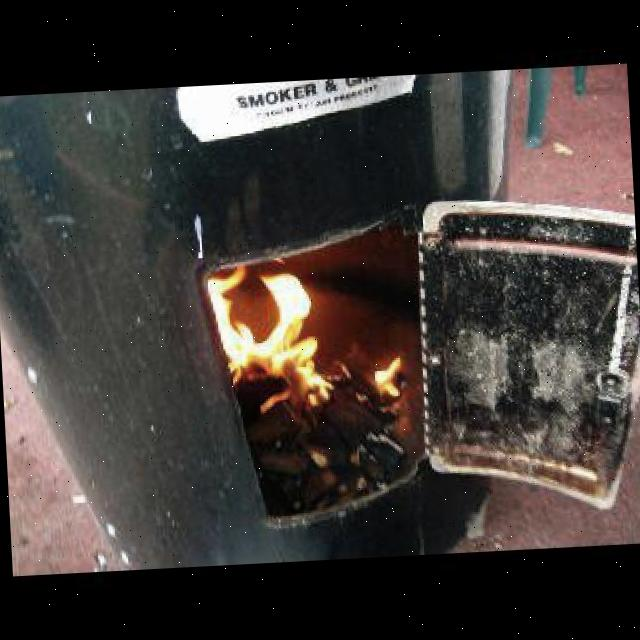fire: (204, 243, 408, 420)
